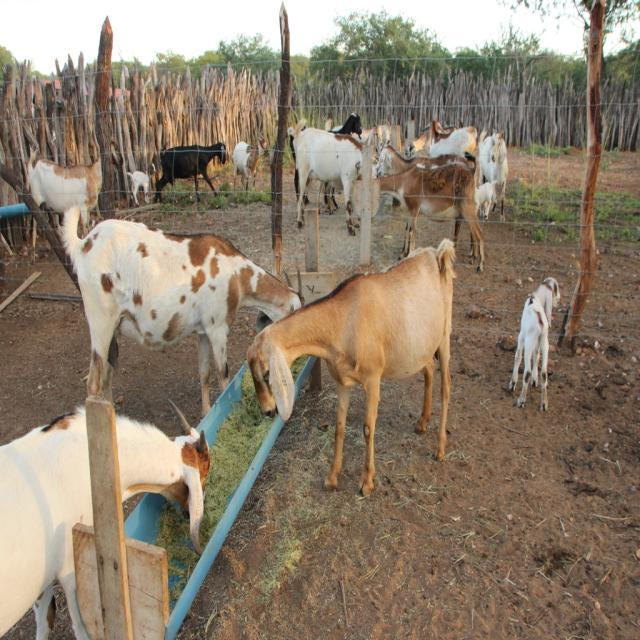Goat: (247, 235, 458, 497), (58, 203, 303, 420), (1, 398, 211, 638), (371, 143, 486, 273), (287, 117, 377, 235), (25, 146, 123, 245), (509, 276, 561, 411), (152, 141, 227, 204), (479, 129, 509, 222), (233, 136, 268, 191)
